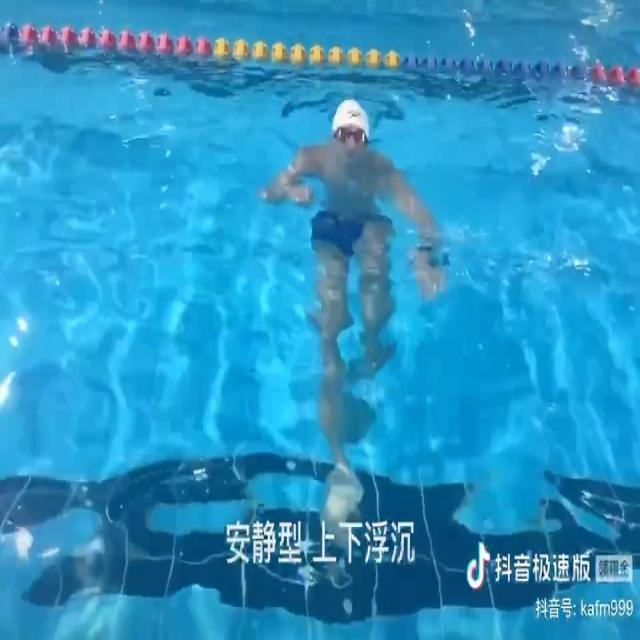Drowning: (267, 94, 447, 492)
